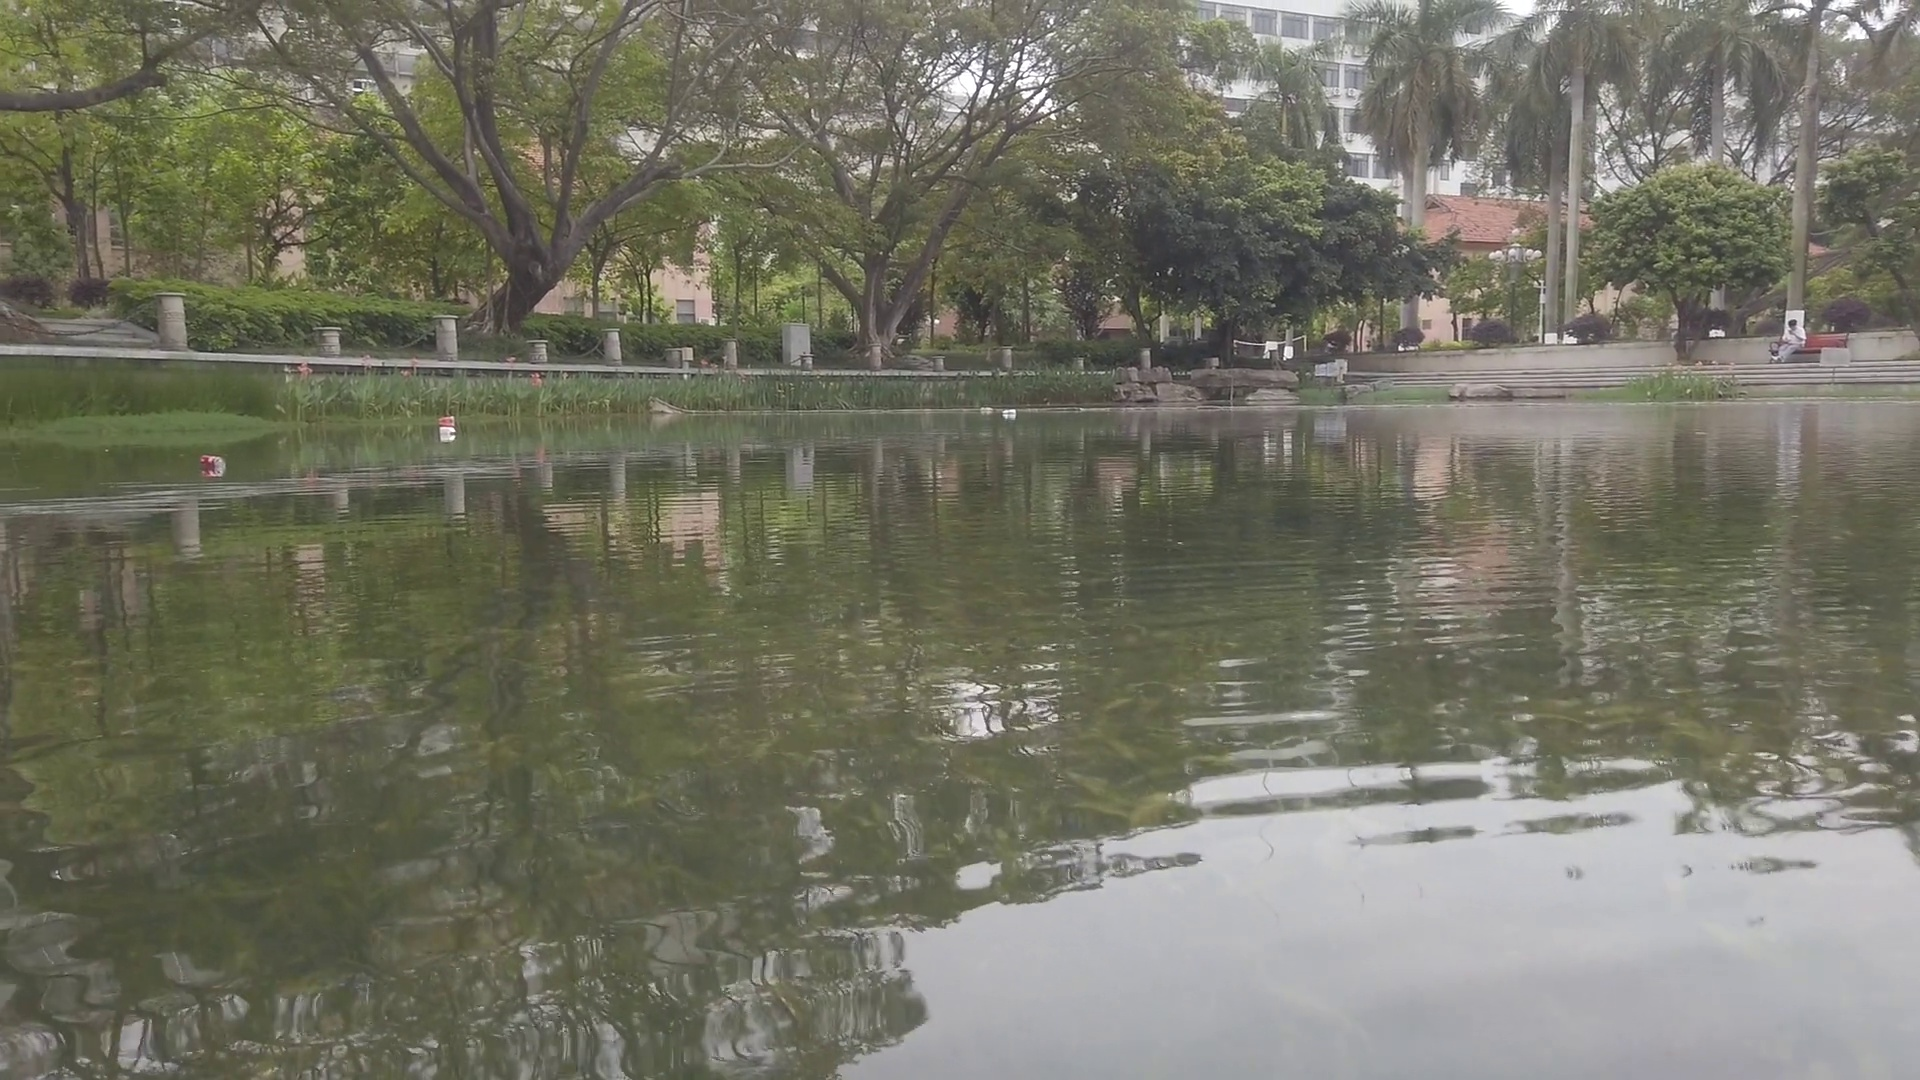bottle: (199, 455, 223, 469), (440, 415, 454, 425), (1004, 409, 1017, 415), (980, 407, 994, 411)
carton: (439, 426, 456, 438)
